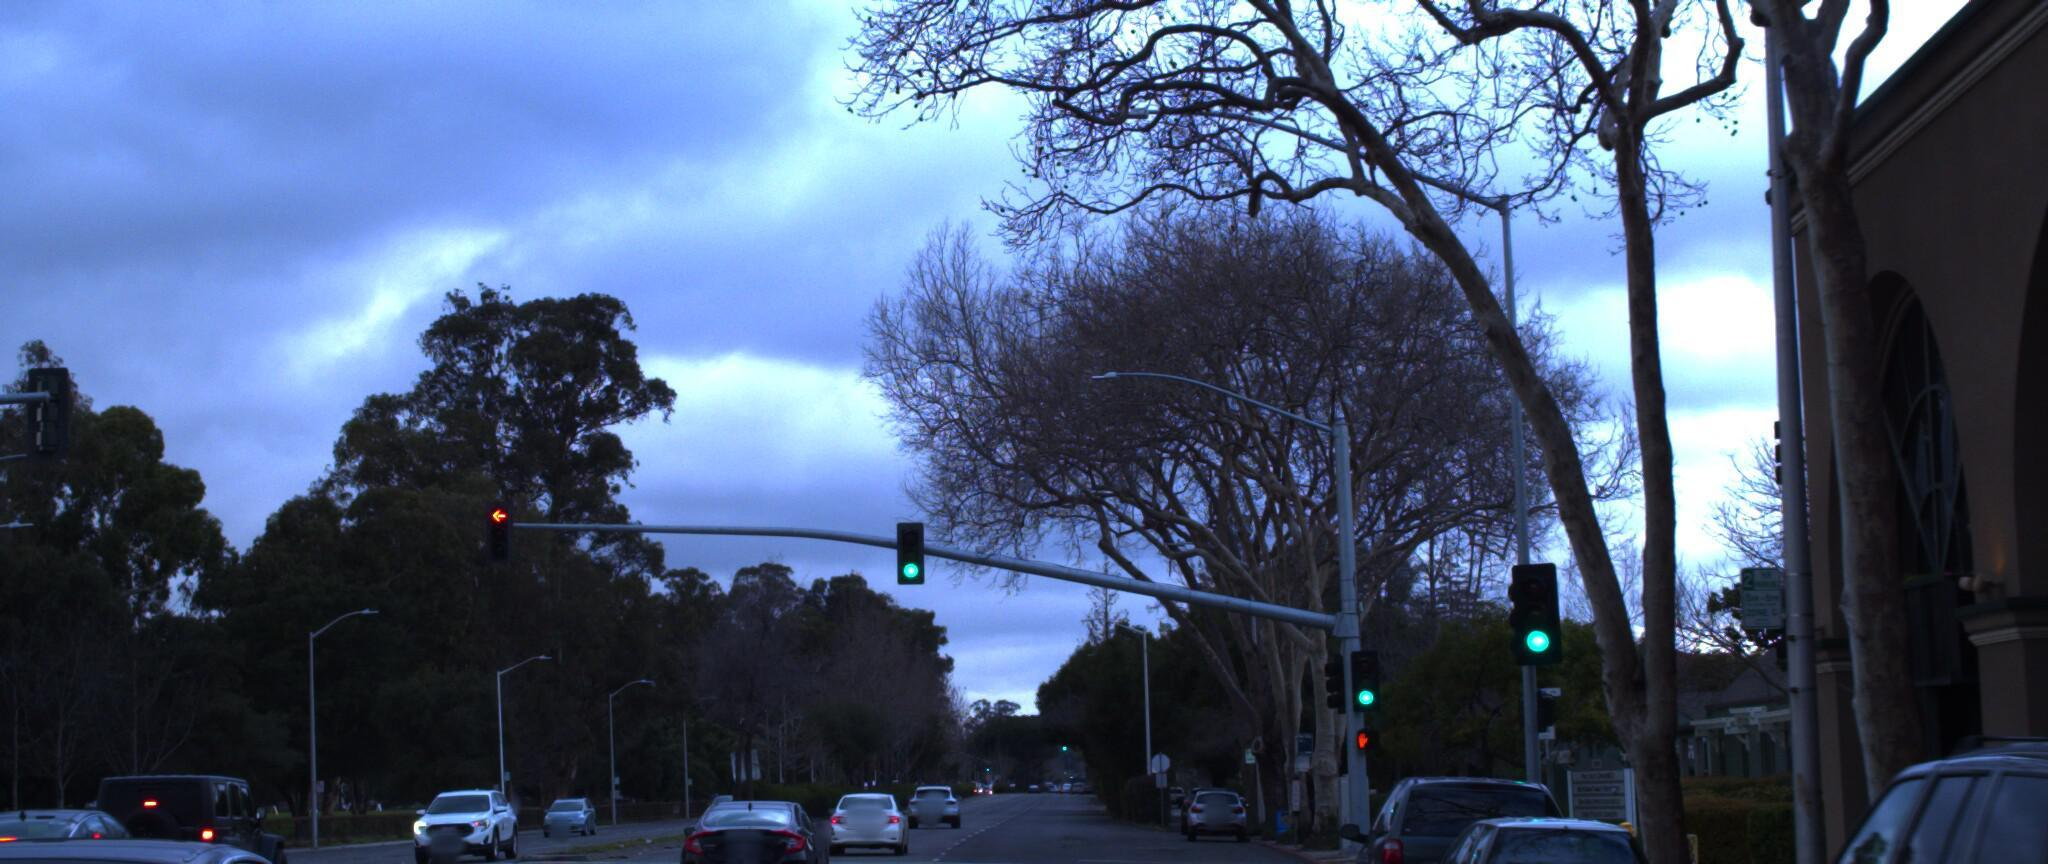car: (1703, 713, 2048, 864), (1337, 764, 1567, 864), (71, 764, 299, 864), (1377, 794, 1669, 864), (0, 818, 441, 864), (658, 780, 811, 864), (0, 801, 197, 864), (408, 774, 522, 857), (819, 790, 906, 857)
